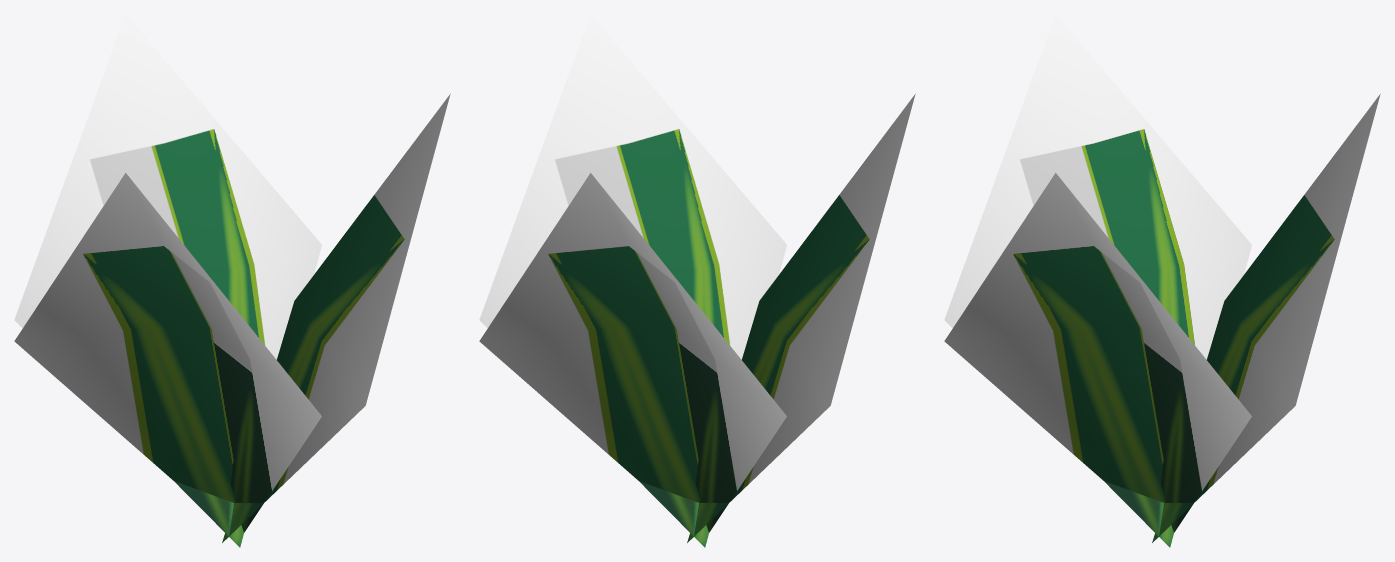
The model's file is Grass.fbx.
3 views of the same model, side by side, from view 1: azimuth 30°, elevation 25°; view 2: azimuth 150°, elevation 25°; view 3: azimuth 270°, elevation 25° (orthographic).
Visible parts, largest first — view 1: geo_Grass; view 2: geo_Grass; view 3: geo_Grass.
Boxes of the visible parts, x1,y1,x2,y2 form: geo_Grass: (14,14,450,547); geo_Grass: (479,14,915,547); geo_Grass: (944,14,1380,547).
Size of the model in its own units: 22.07 by 27.02 by 23.74.
